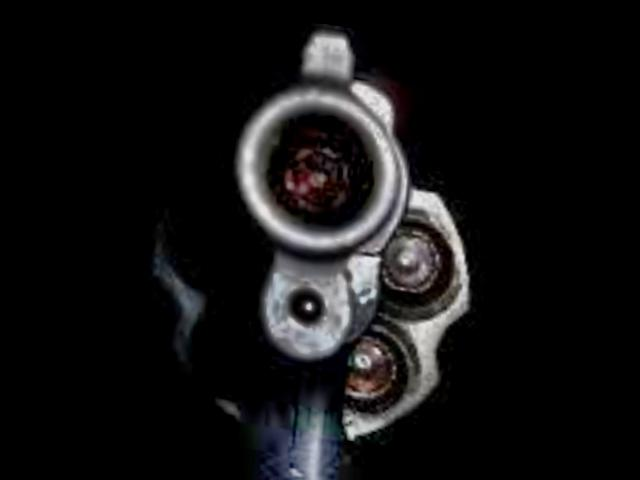pistol: (124, 7, 487, 480)
